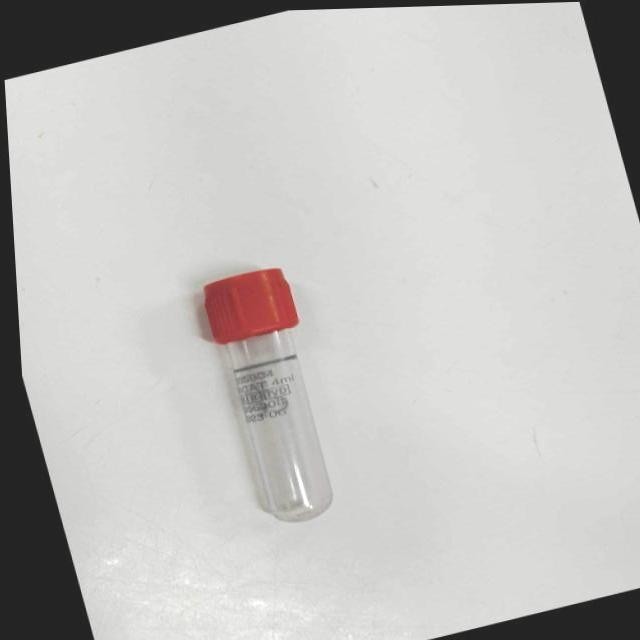Pathological: (5, 2, 639, 637)
Sharps: (201, 266, 335, 523)
